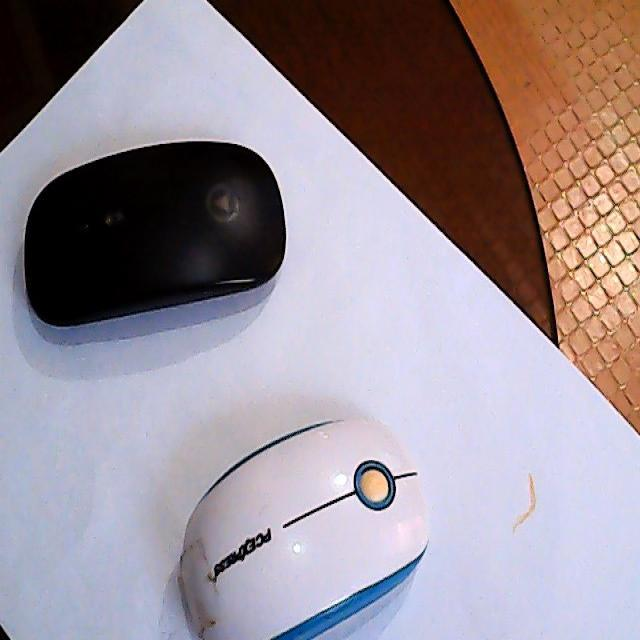mouse: (178, 414, 436, 640), (23, 136, 288, 326)
